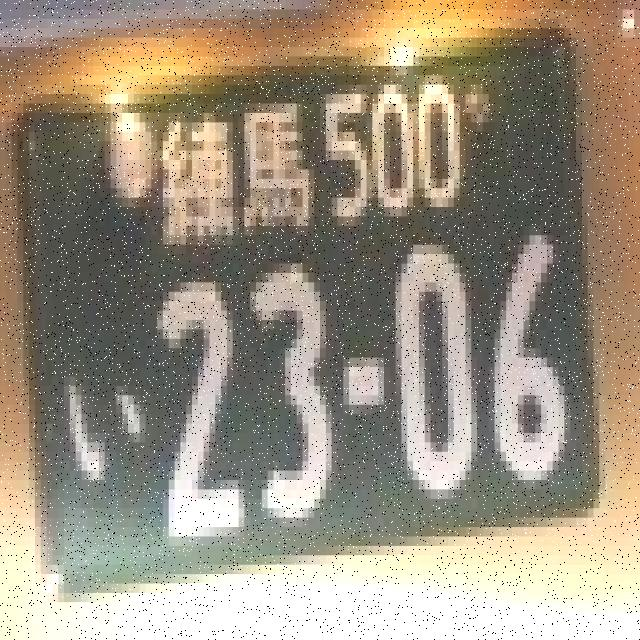licenseplate: (10, 29, 603, 603)
